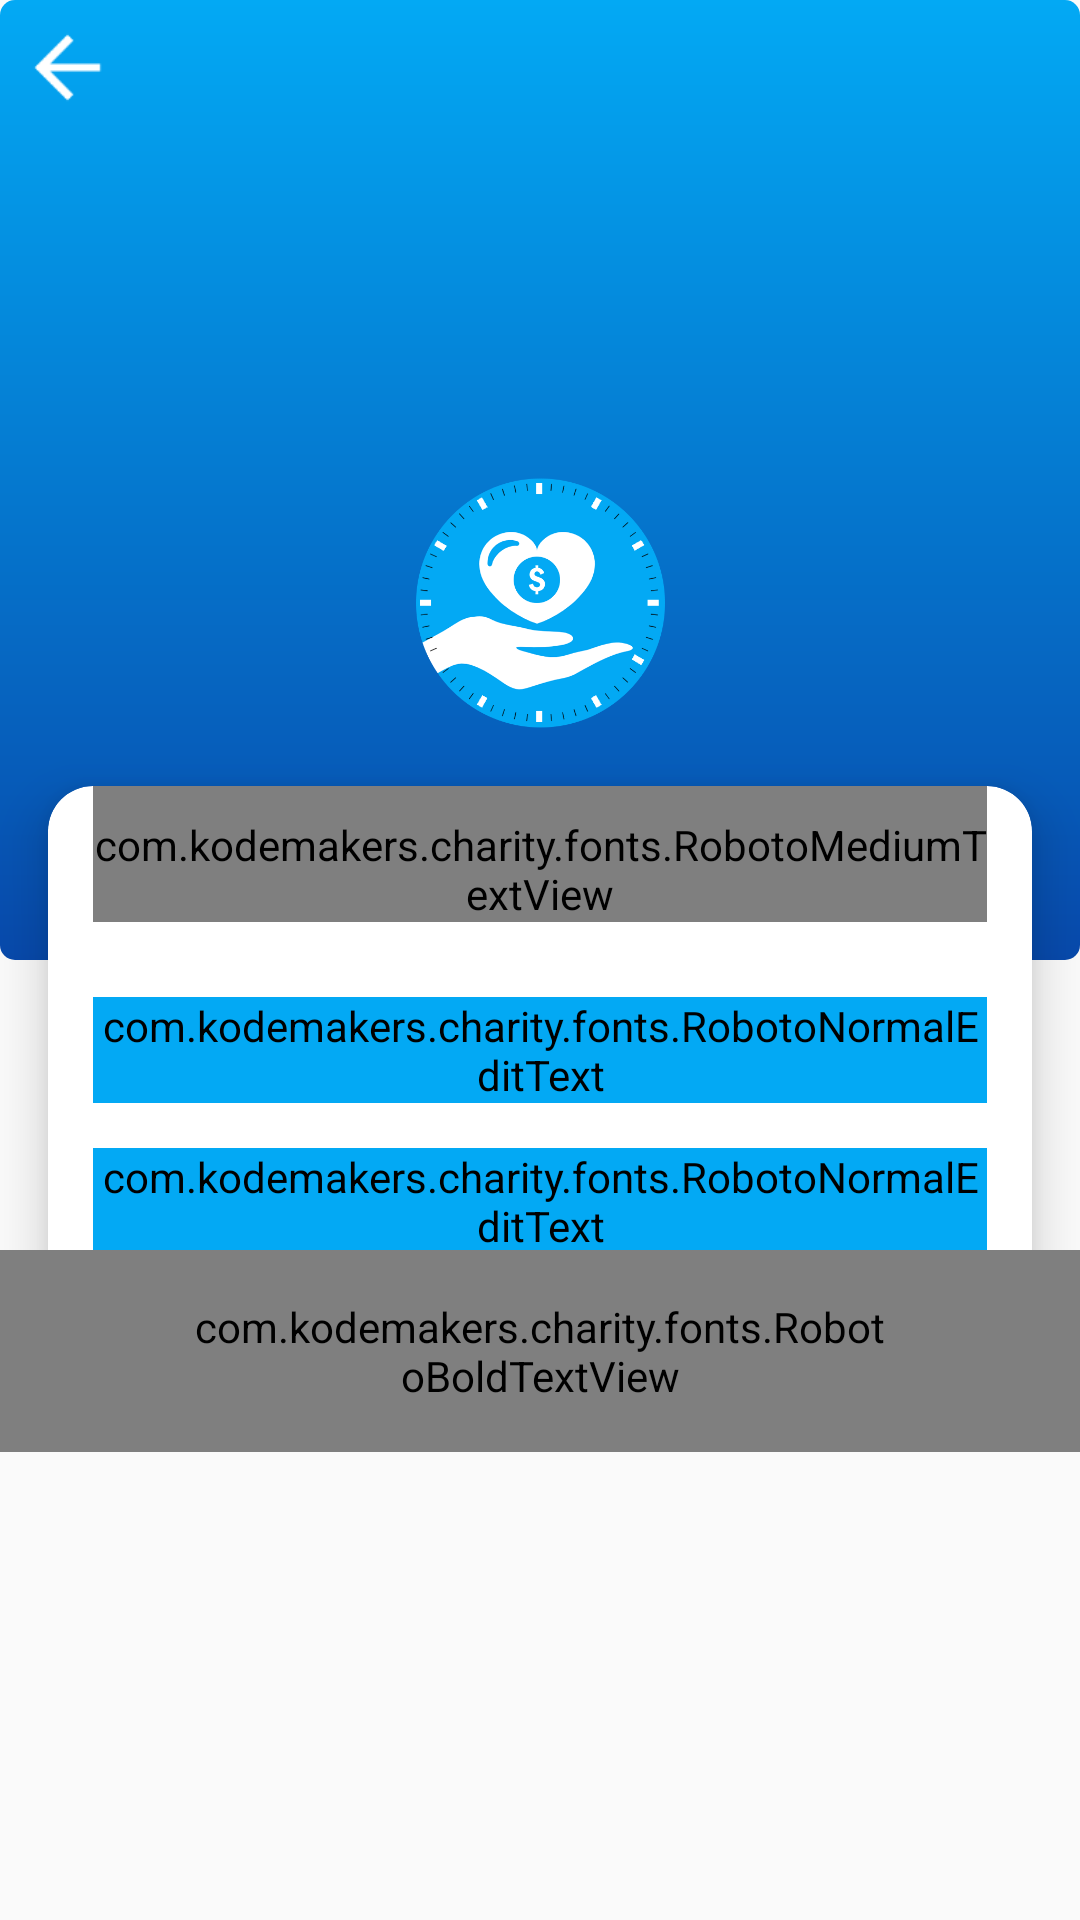

Point at icon controls on the screen. Image size 1080×1920, points as [x,y].
arrow back: [50,50]
